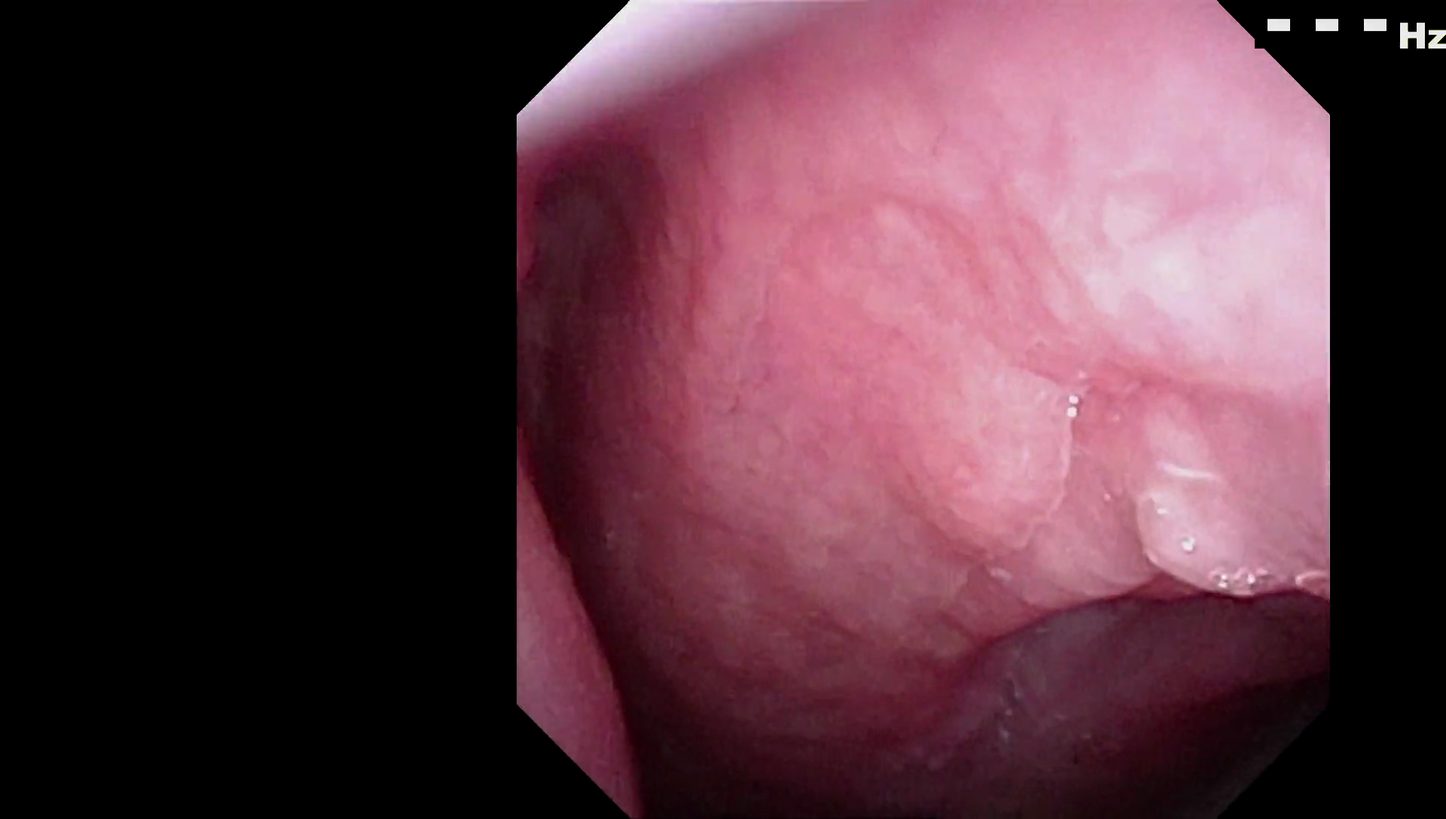close_wall: (913, 136, 1312, 596)
next: (566, 623, 809, 819), (1060, 659, 1329, 814), (520, 424, 679, 671)
